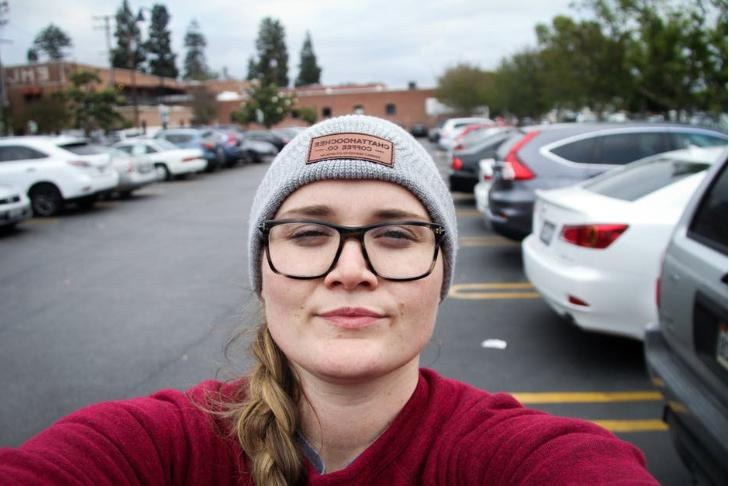face: (262, 180, 443, 375)
